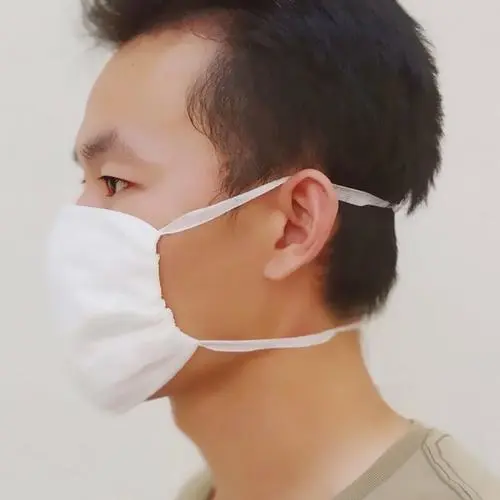withmask: (46, 1, 446, 415)
